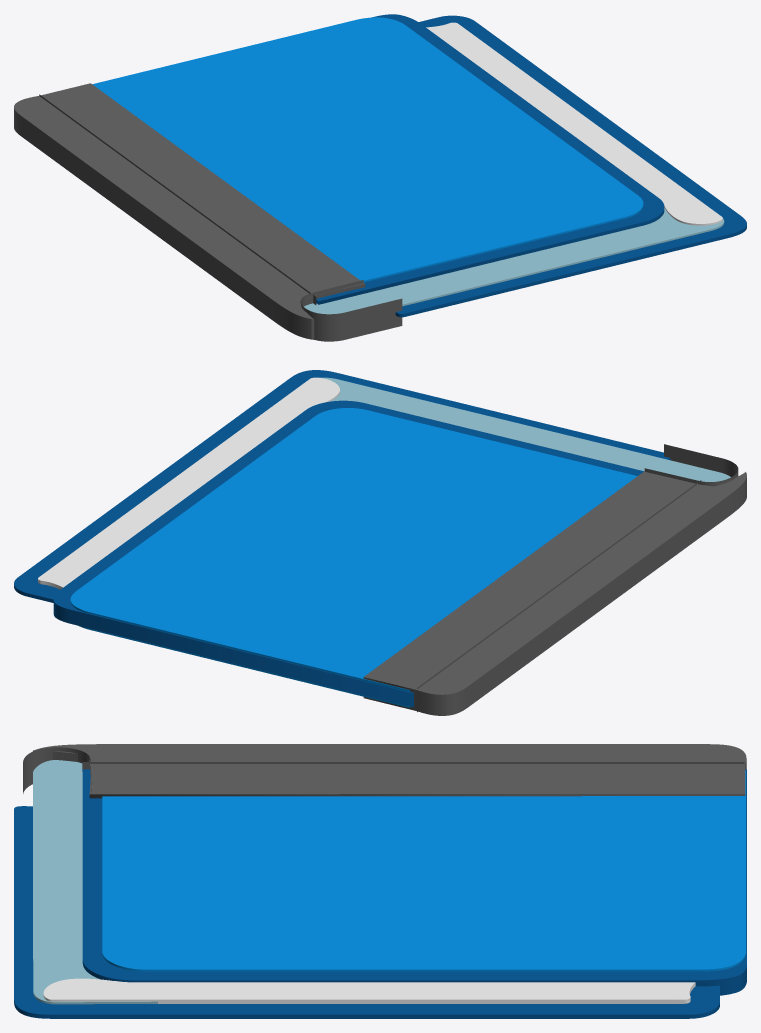
File: emoji_u1f4d8.glb
3 renders of one model, top to bottom at view 1: azimuth 30°, elevation 25°; view 2: azimuth 150°, elevation 25°; view 3: azimuth 270°, elevation 25°, orthographic. The views are drawn at different scales.
Visible parts, largest first — view 1: emoji_u1f4d8; view 2: emoji_u1f4d8; view 3: emoji_u1f4d8.
Boxes of the visible parts, x1,y1,x2,y2 form: emoji_u1f4d8: (14,14,746,341); emoji_u1f4d8: (14,370,746,715); emoji_u1f4d8: (14,744,746,1018).
Size of the model in its own units: 0.0272 by 0.0016 by 0.0324.
